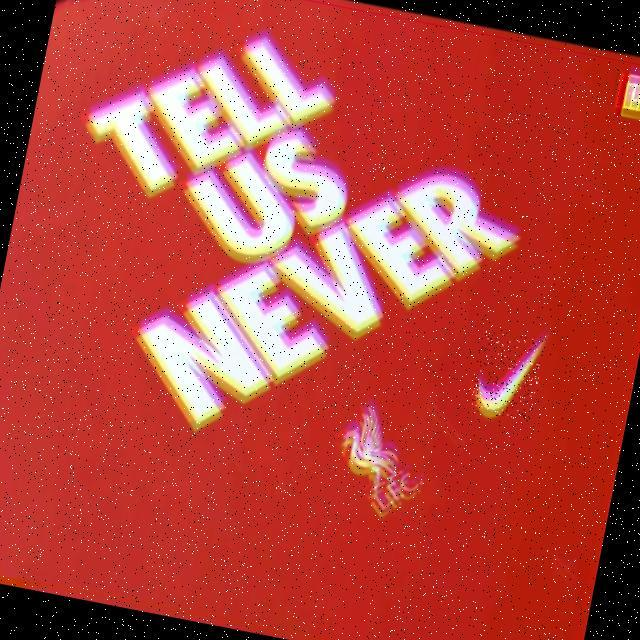Nike: (470, 328, 547, 424)
